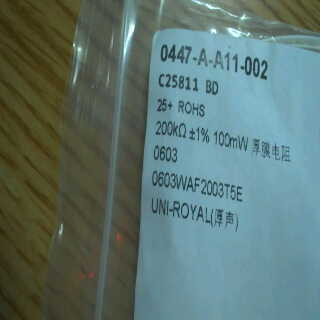200kR: (151, 118, 190, 138)
